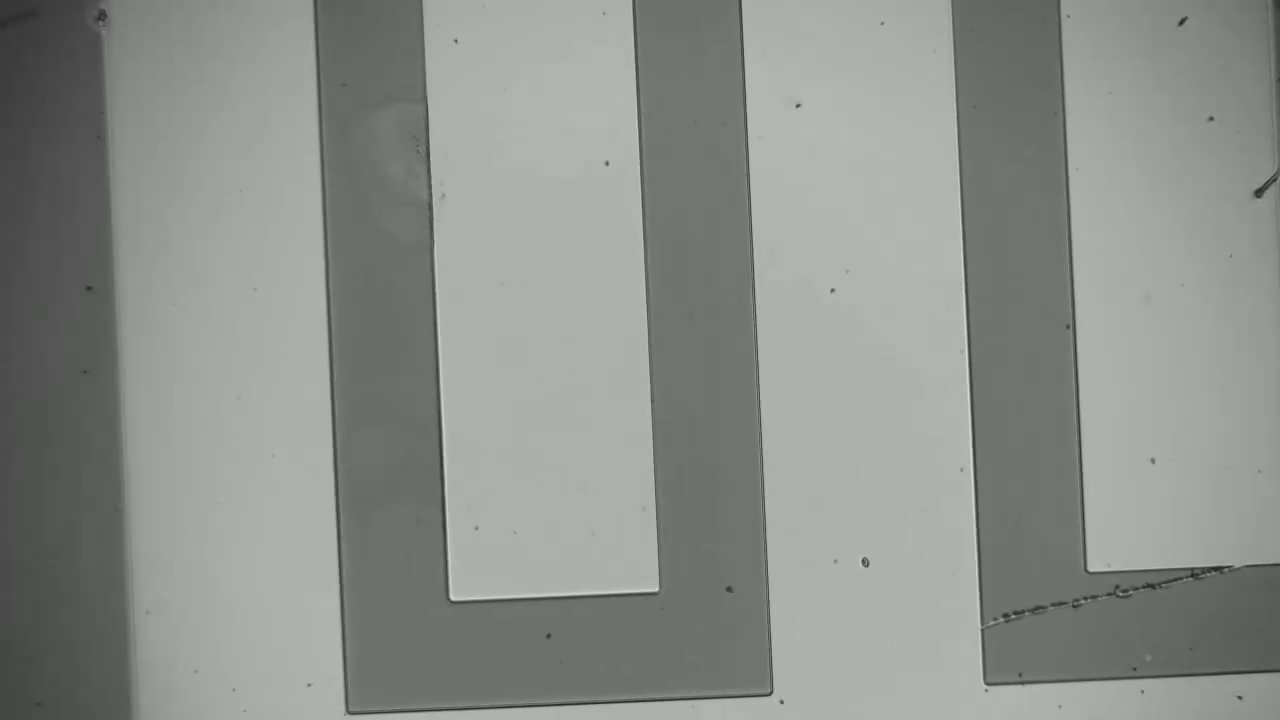scratch: (983, 567, 1247, 619)
